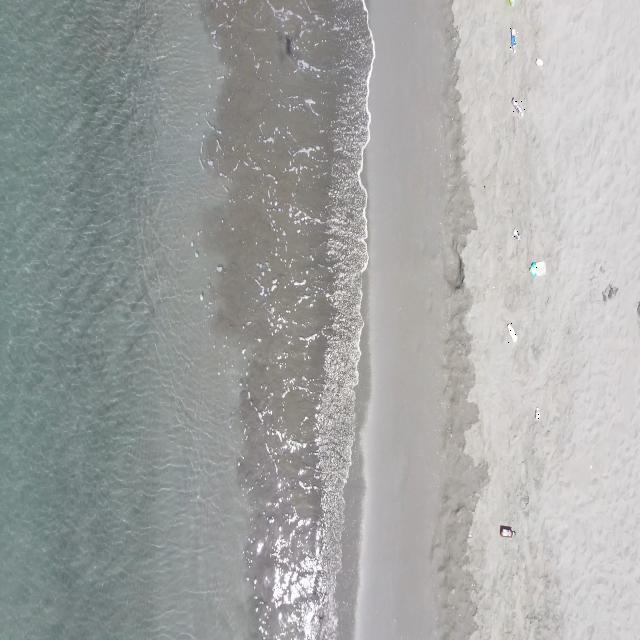Garbage: (602, 283, 617, 300), (528, 260, 543, 276), (512, 97, 523, 116), (500, 524, 515, 536), (507, 323, 515, 342), (510, 27, 515, 51), (512, 227, 519, 239), (535, 407, 540, 420), (635, 300, 639, 316), (216, 263, 223, 272), (535, 57, 543, 64), (507, 0, 515, 5), (199, 292, 203, 300)
